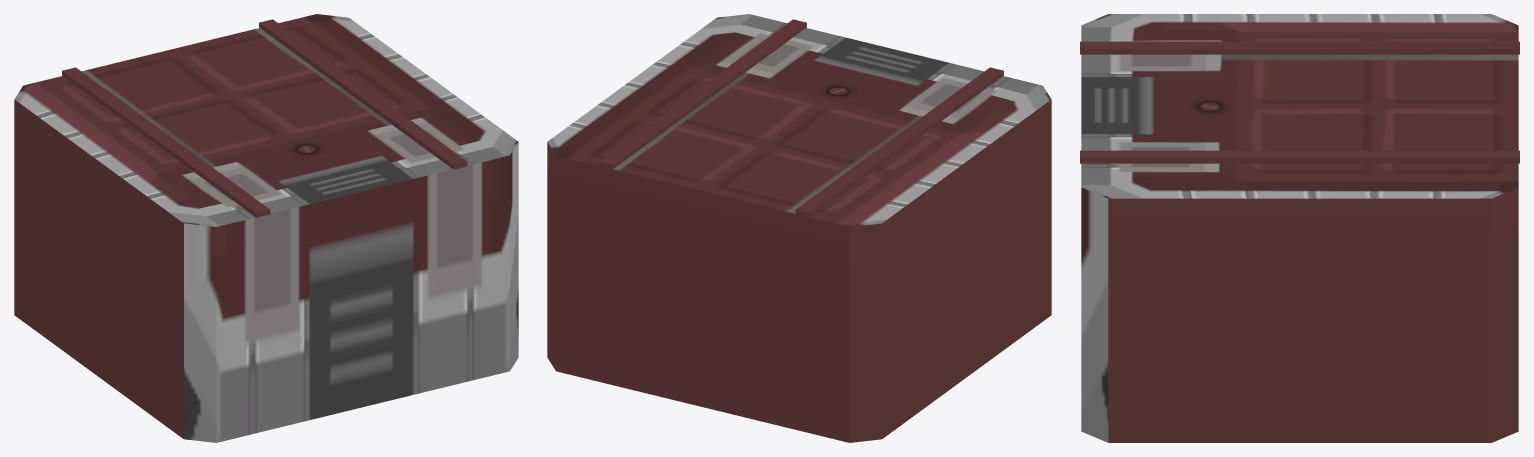
The model's file is Building_LargeChemfuelTank.glb.
The picture shows the model from 3 angles, left to right: view 1: azimuth 30°, elevation 25°; view 2: azimuth 150°, elevation 25°; view 3: azimuth 270°, elevation 25°; orthographic projection. The views are drawn at different scales.
Visible parts, largest first — view 1: LargeChemfuelTank; view 2: LargeChemfuelTank; view 3: LargeChemfuelTank.
Part boxes in pixels (bbox=[...]): LargeChemfuelTank: bbox=[14, 14, 518, 442]; LargeChemfuelTank: bbox=[547, 14, 1051, 442]; LargeChemfuelTank: bbox=[1080, 14, 1519, 442].
Size of the model in its own units: 2.92 by 1.84 by 2.94.
1 material, 1 textured.
